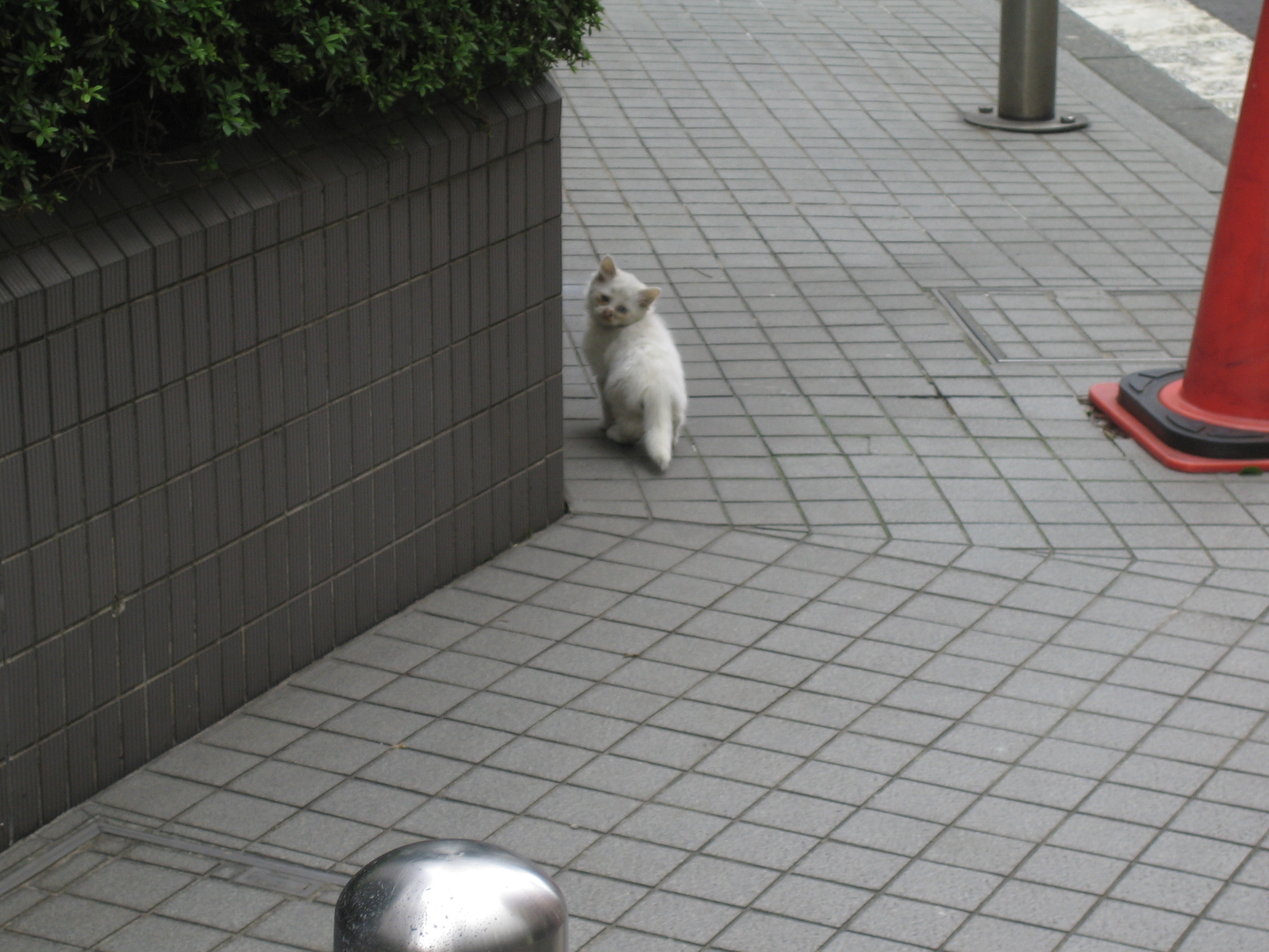cat: (577, 255, 685, 473)
